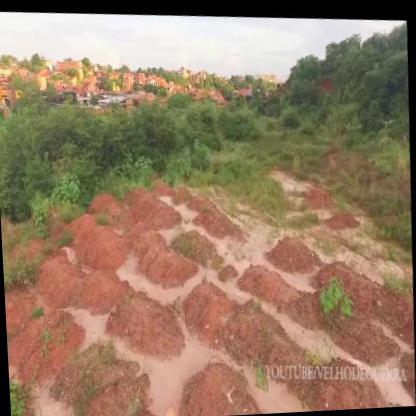agua: (139, 346, 195, 415), (254, 360, 324, 412)
